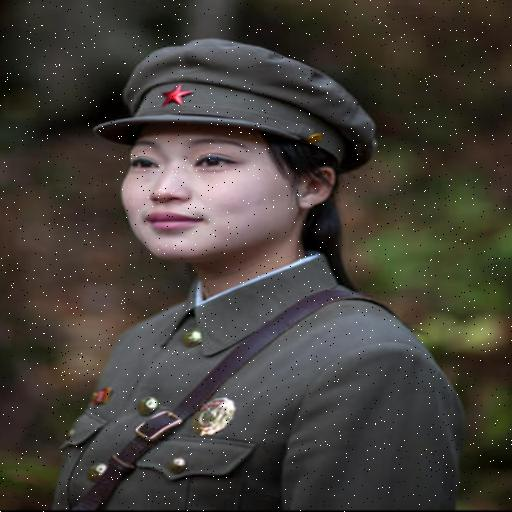north army: (49, 50, 427, 490)
